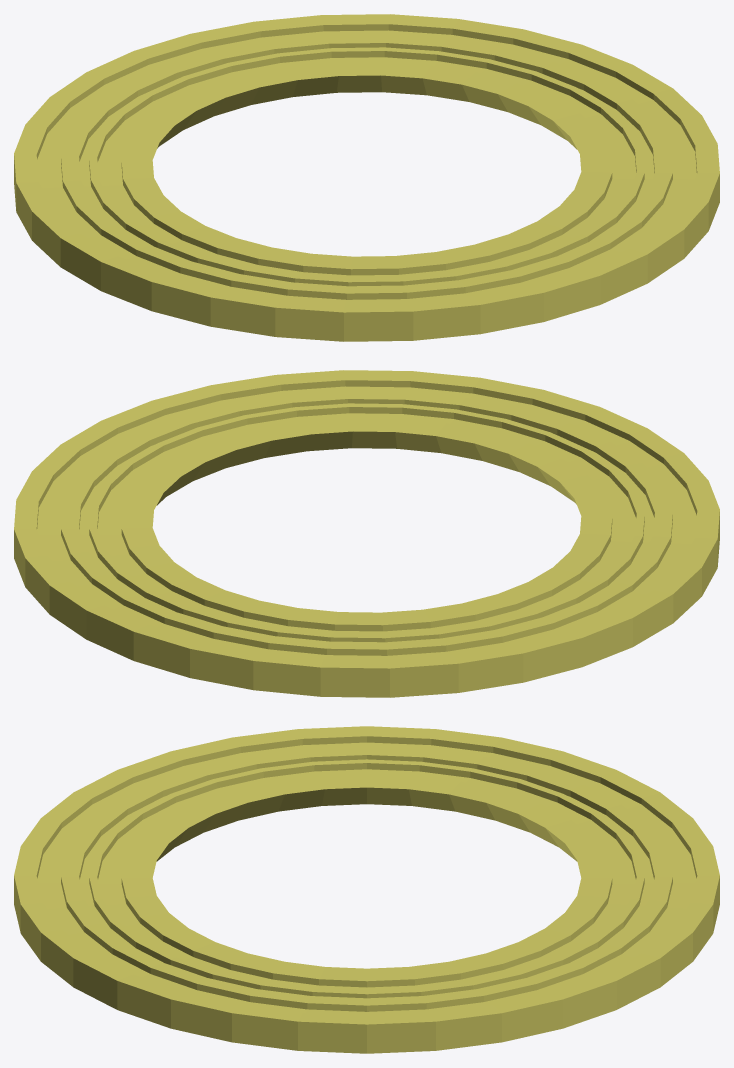
The model's file is moneda.fbx.
The picture shows the model from 3 angles, top to bottom: view 1: azimuth 30°, elevation 25°; view 2: azimuth 150°, elevation 25°; view 3: azimuth 270°, elevation 25°; orthographic projection.
Parts seen in each view (by area): view 1: Circle; view 2: Circle; view 3: Circle.
Part boxes in pixels (x1,y1,x2,y2): Circle: (14,14,719,341); Circle: (14,370,719,697); Circle: (14,726,719,1053).
Bounding box in the file's own units: 423 × 19.31 × 423.
